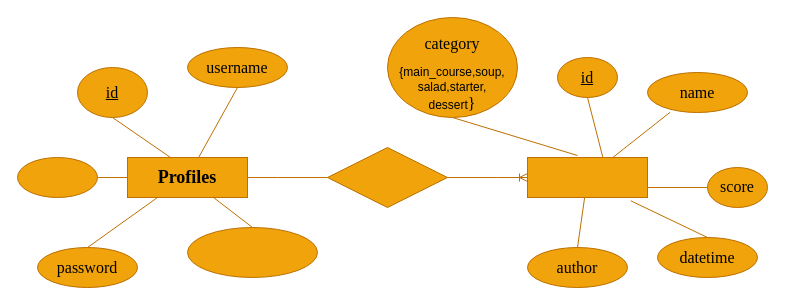
Some shapes in this 785 by 306 pixel diagram are drawn without their labels. The shapes that lost their labels are listed below. From the top down, each one's centre as x and y in pixels, then its label:
point 57,177: email
point 387,177: Upload
point 587,177: Recipes
point 252,252: role{admin,user}
